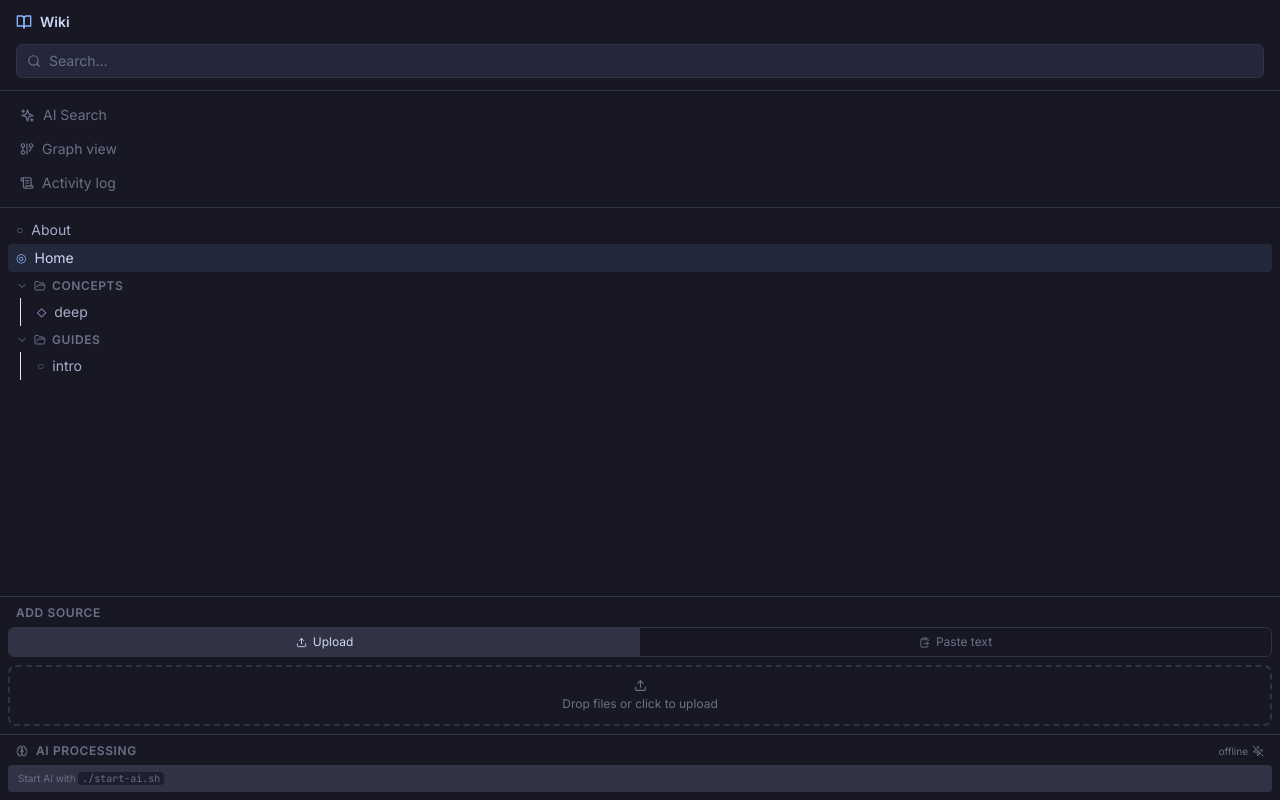
Test case: Sidebar — wiki mode › collapses a group on click
Click the button "concepts" at (88, 286), box [8,274,1272,298]
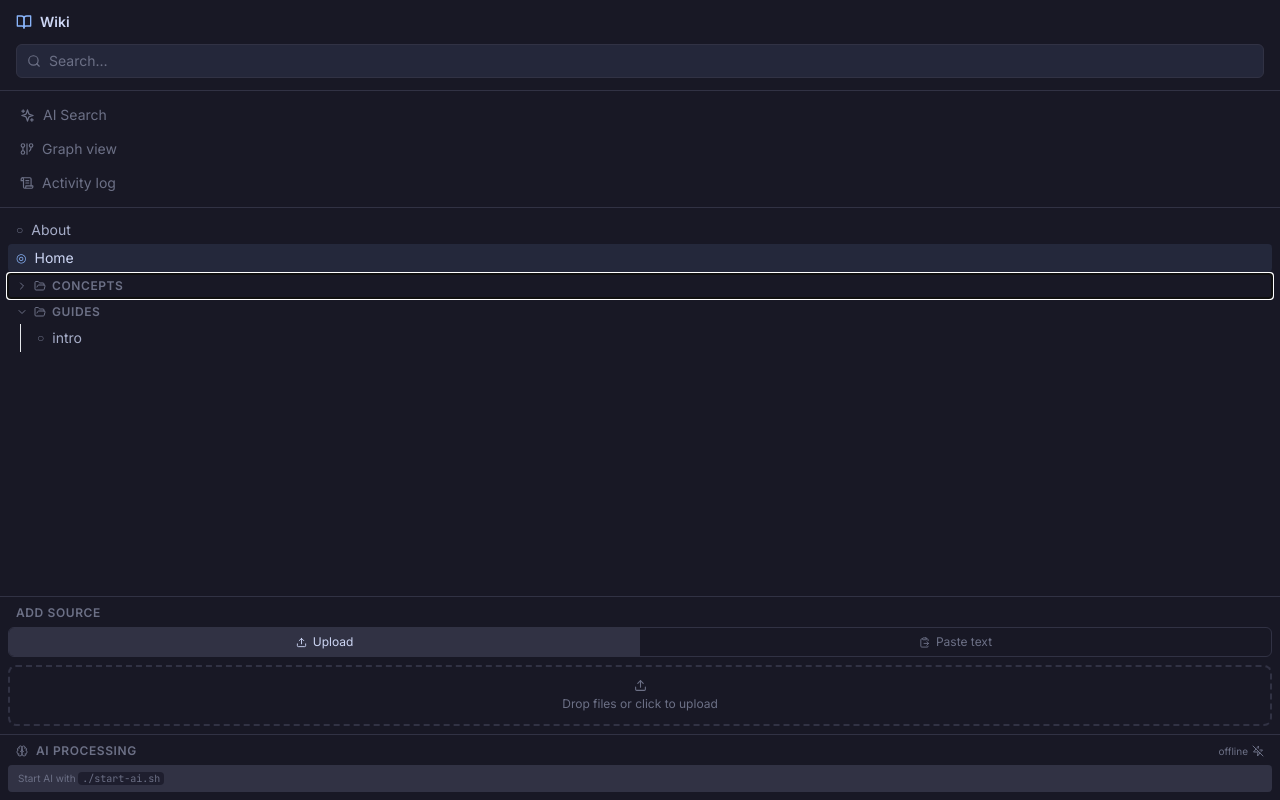
Result: the button "deep" is gone
